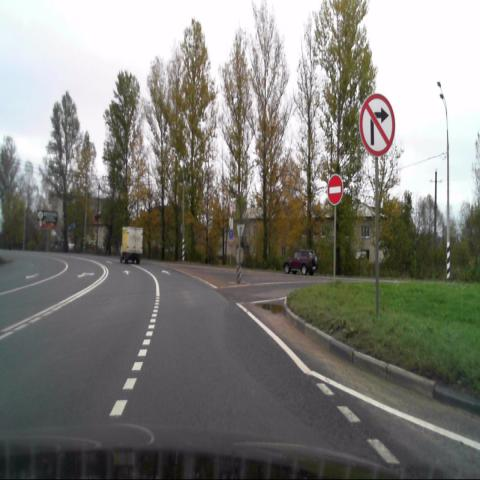3_18: (360, 94, 395, 155)
